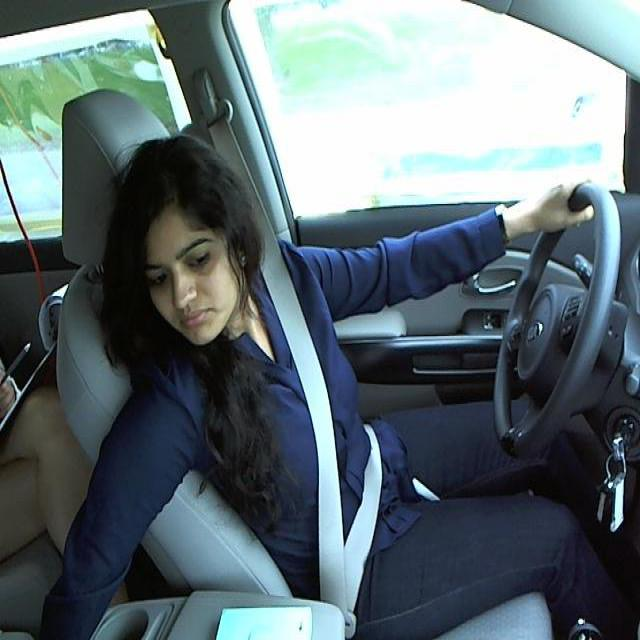seatbelt: (277, 288, 395, 587)
